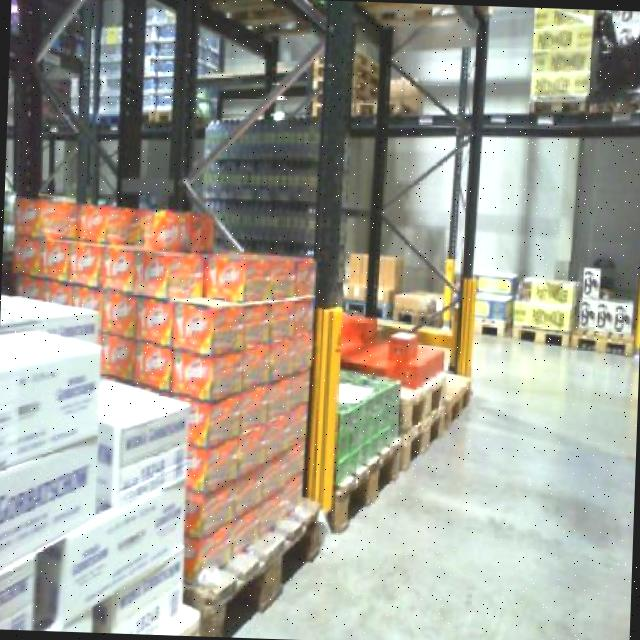pallet: (171, 476, 330, 636), (319, 425, 405, 545), (395, 357, 451, 433), (397, 394, 445, 473), (566, 326, 636, 368), (512, 314, 575, 354)
